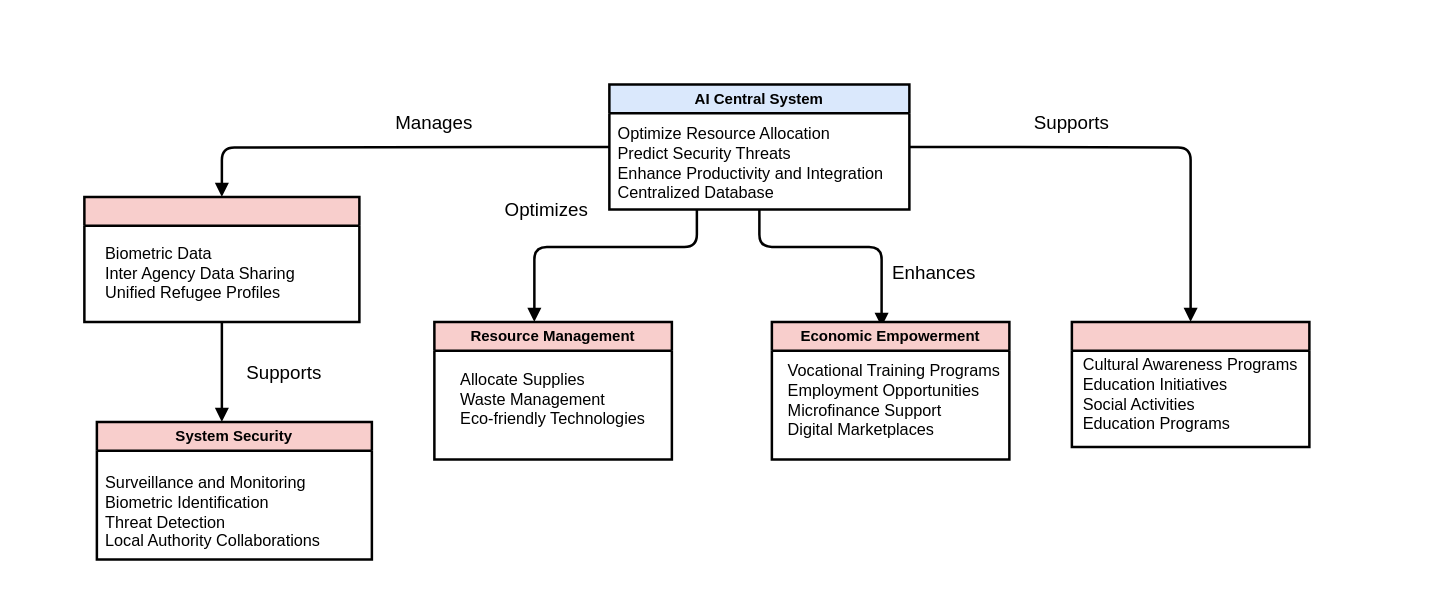
Some shapes in this 1430 by 605 pixel diagram are drawn without their labels. The shapes that lost their labels are listed below. From the top down, each one's box as (x1, y1, x2, y2) in pixels, then its label:
(82, 195, 360, 322): Centralized Databace Management
(1070, 320, 1310, 448): Community Integration
